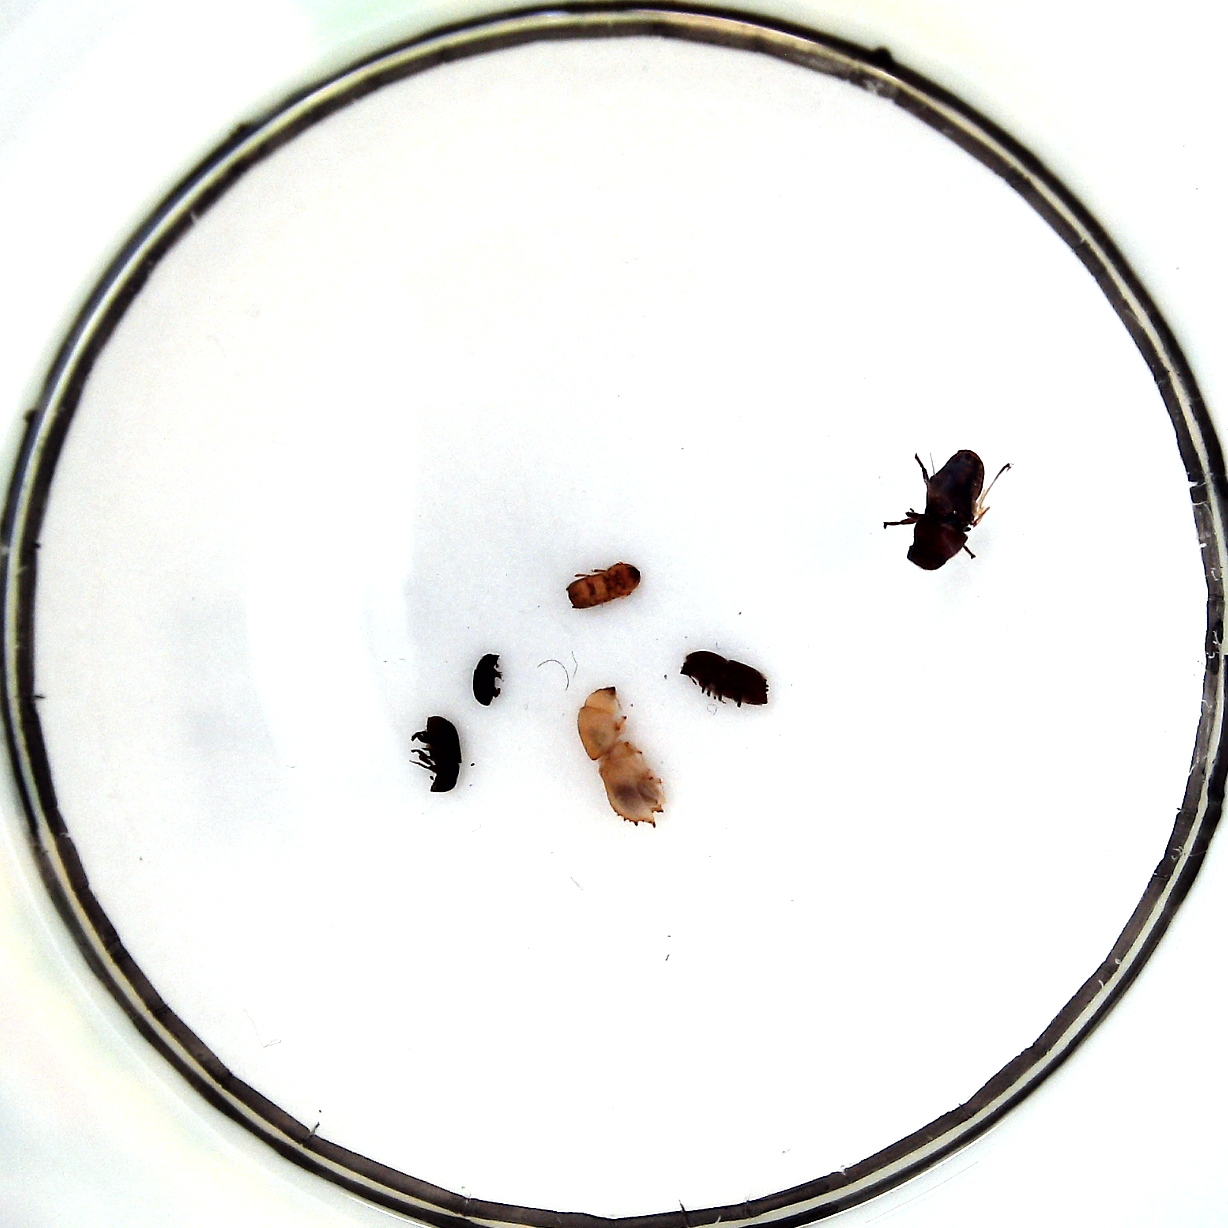Boerner: (578, 687, 663, 828)
Leconte: (908, 449, 984, 570)
acuminatus: (473, 653, 499, 707)
armandi: (425, 715, 463, 793)
linnaeus: (680, 650, 769, 708), (566, 562, 640, 610)
